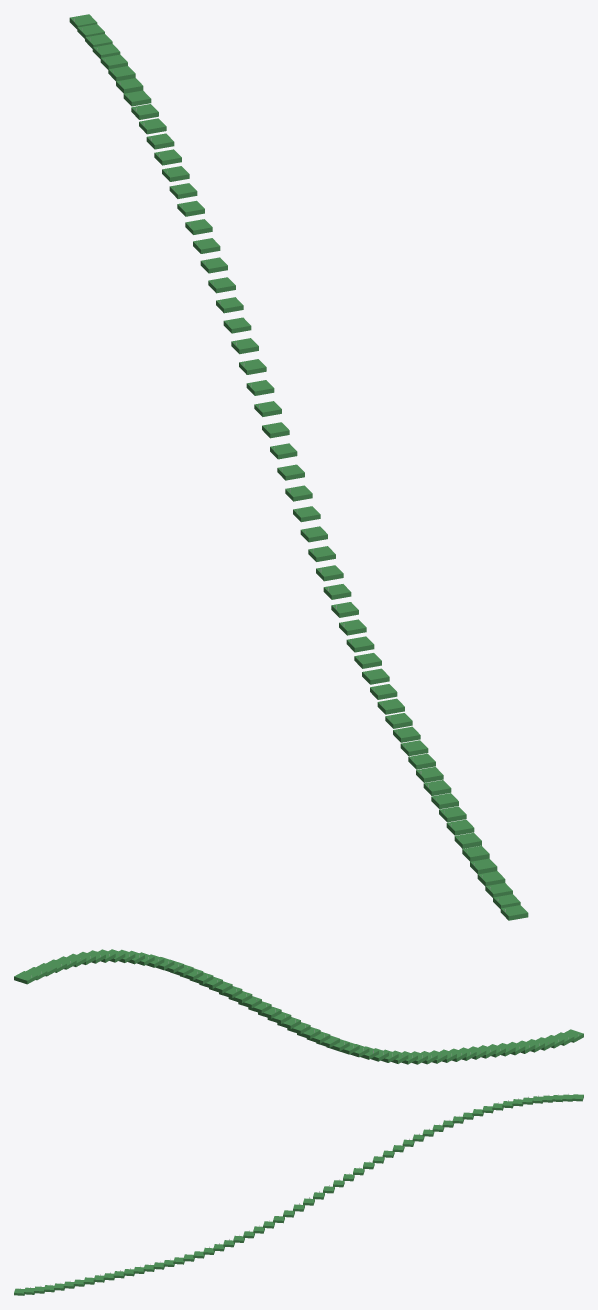
File: hooiberg_steps.glb
The picture shows the model from 3 angles, top to bottom: view 1: azimuth 30°, elevation 25°; view 2: azimuth 150°, elevation 25°; view 3: azimuth 270°, elevation 25°; orthographic projection. The views are drawn at different scales.
Visible parts, largest first — view 1: hooiberg_steps_lod0; view 2: hooiberg_steps_lod0; view 3: hooiberg_steps_lod0.
Part boxes in pixels (x1,y1,x2,y2): hooiberg_steps_lod0: (69,14,528,920); hooiberg_steps_lod0: (14,949,583,1064); hooiberg_steps_lod0: (14,1093,583,1295).
Size of what is drawn, in the model's own units: 33.94 by 101 by 227.
